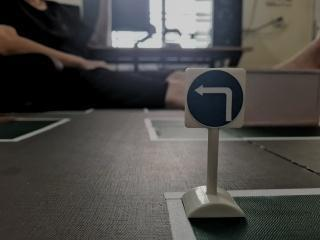left: (184, 66, 247, 127)
